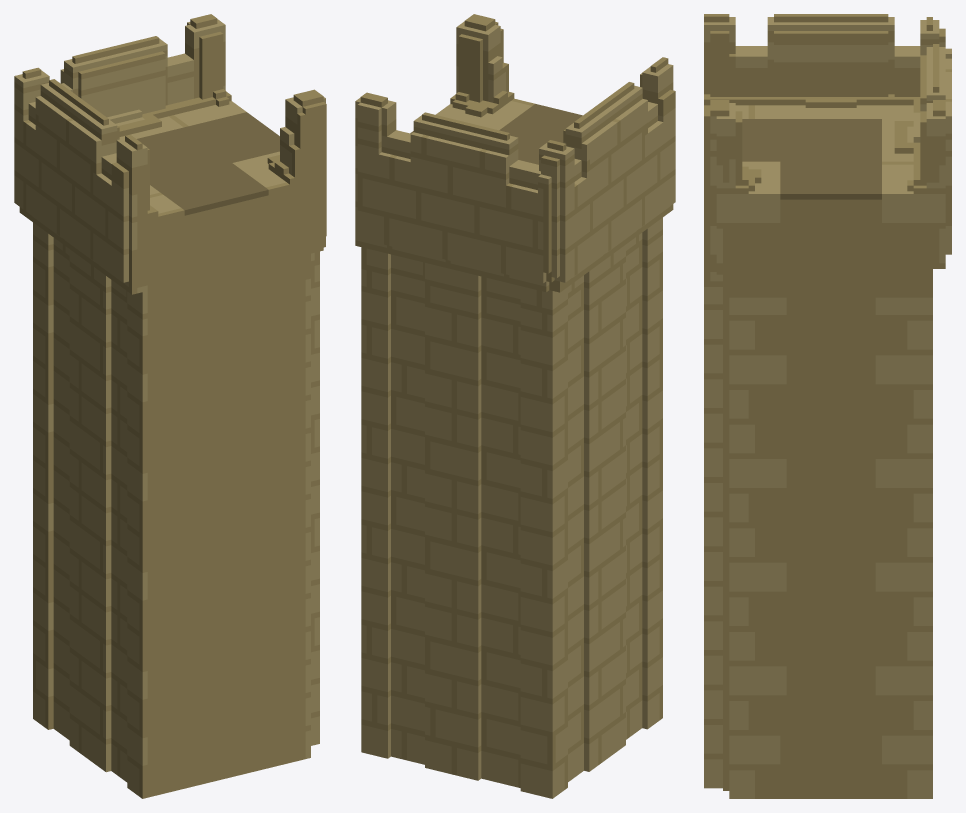
The model's file is wall_1_outer.fbx.
3 views of the same model, side by side, from view 1: azimuth 30°, elevation 25°; view 2: azimuth 150°, elevation 25°; view 3: azimuth 270°, elevation 25° (orthographic). The views are drawn at different scales.
Visible parts, largest first — view 1: wall_1_outer; view 2: wall_1_outer; view 3: wall_1_outer.
Boxes of the visible parts, left/top/right/bottom form: wall_1_outer: left=14, top=14, right=326, bottom=798; wall_1_outer: left=355, top=14, right=675, bottom=798; wall_1_outer: left=704, top=14, right=951, bottom=798.
Size of the model in its own units: 390 by 390 by 1190.
